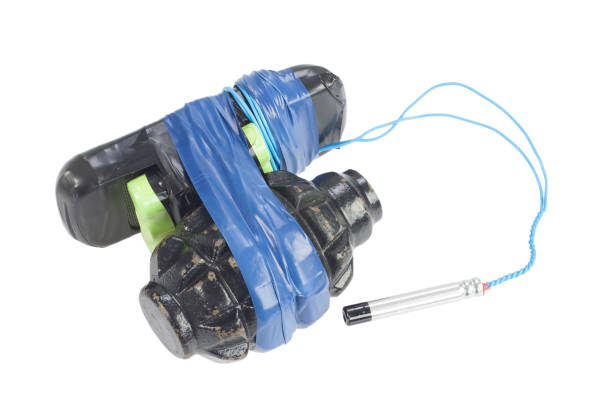e1: (143, 167, 383, 364)
